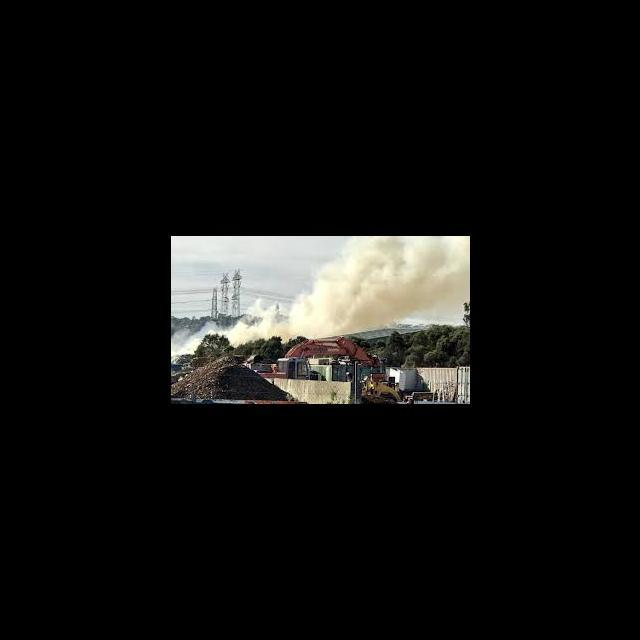Smoke: (334, 236, 470, 301), (334, 302, 460, 324), (299, 260, 334, 334), (254, 306, 275, 336), (170, 328, 193, 354), (280, 304, 296, 338), (230, 322, 252, 339)
